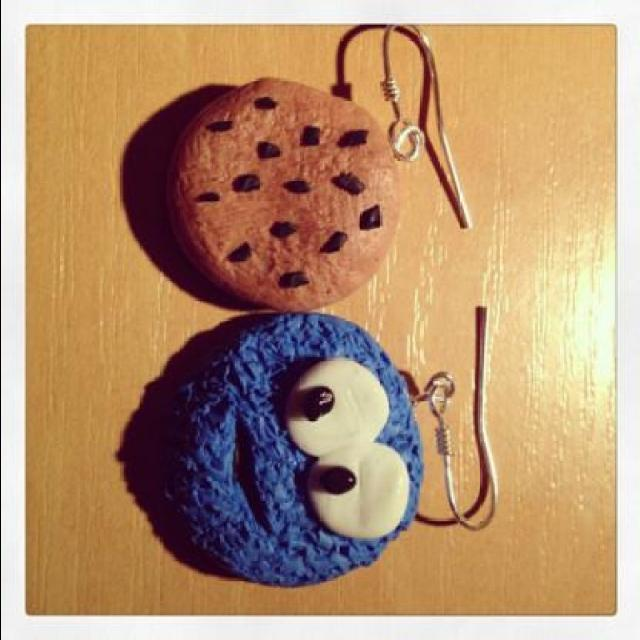Cookie: (159, 310, 427, 592), (166, 76, 408, 314)
